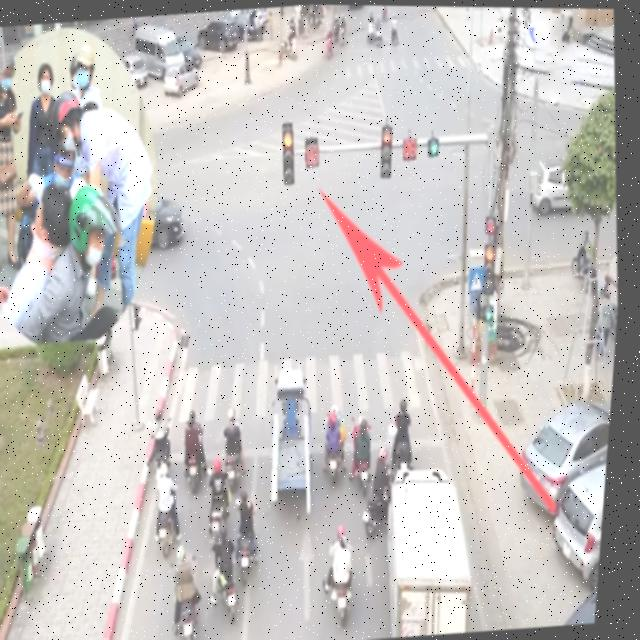Red: (482, 214, 505, 295), (280, 121, 301, 186), (378, 122, 399, 177)
